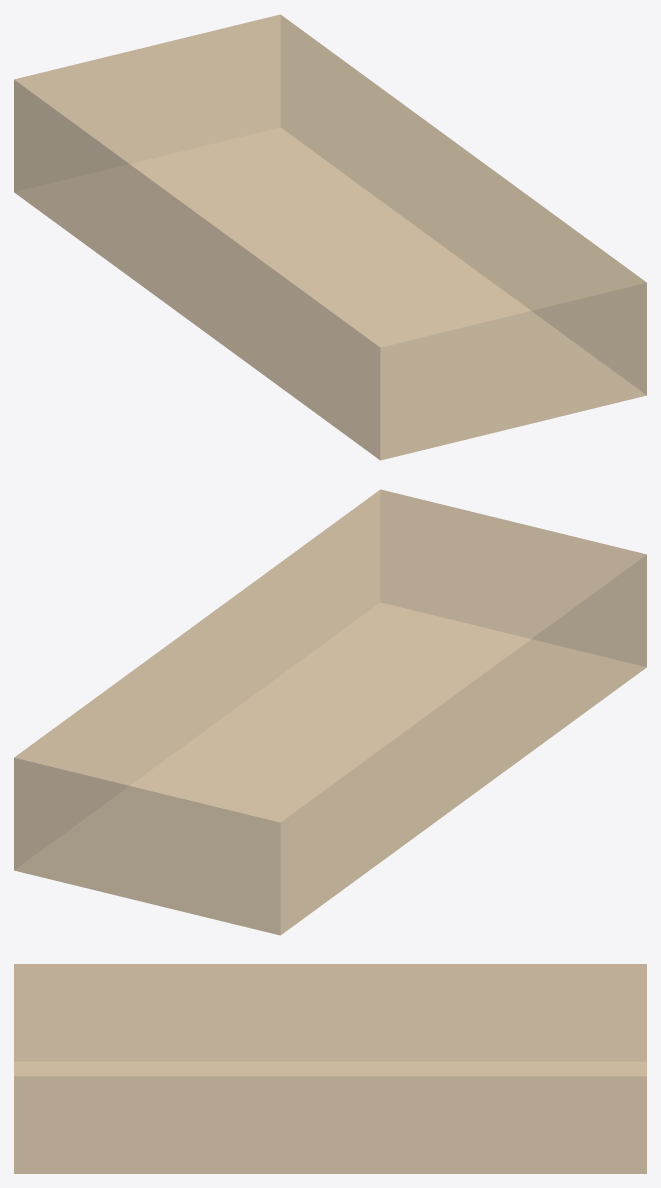
File: blockout.glb
3 views of the same model, one above another, from view 1: azimuth 30°, elevation 25°; view 2: azimuth 150°, elevation 25°; view 3: azimuth 270°, elevation 25° (orthographic). The views are drawn at different scales.
Visible parts, largest first — view 1: C03_ENVELOPE_NOT_FINAL_MESH; view 2: C03_ENVELOPE_NOT_FINAL_MESH; view 3: C03_ENVELOPE_NOT_FINAL_MESH.
Part boxes in pixels (left/top/right/bottom): C03_ENVELOPE_NOT_FINAL_MESH: left=14, top=14, right=646, bottom=460; C03_ENVELOPE_NOT_FINAL_MESH: left=14, top=489, right=646, bottom=935; C03_ENVELOPE_NOT_FINAL_MESH: left=14, top=964, right=646, bottom=1173.
Size of the model in its own units: 4.2 by 1.7 by 10.
